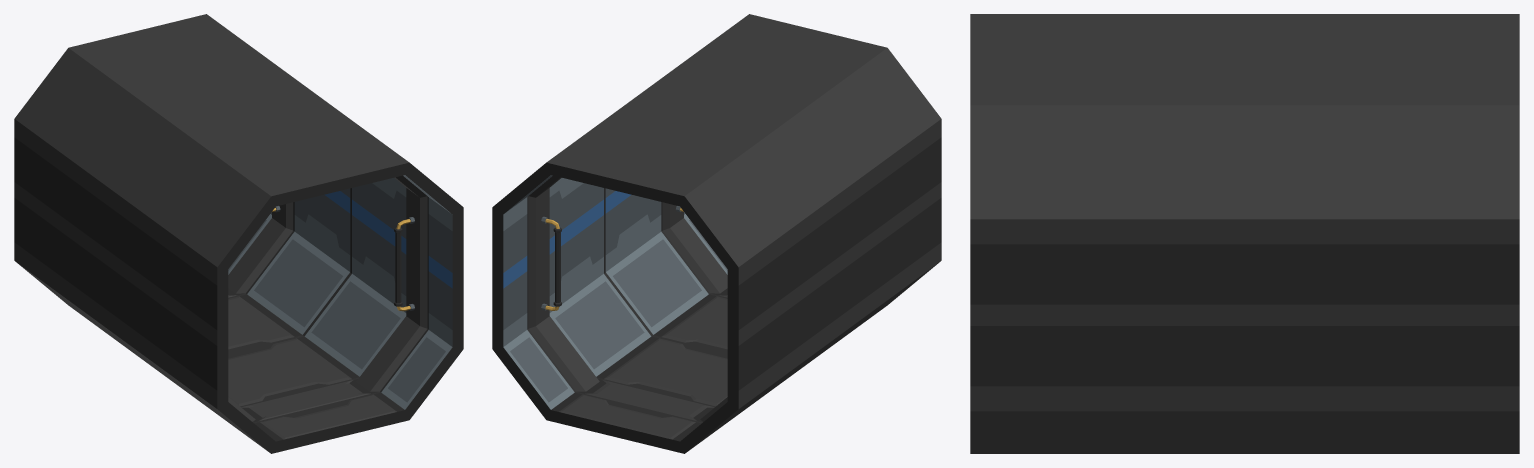
File: SM_Bld_Wall_Tube_01.fbx
3 renders of one model, left to right at view 1: azimuth 30°, elevation 25°; view 2: azimuth 150°, elevation 25°; view 3: azimuth 270°, elevation 25°, orthographic. The views are drawn at different scales.
Visible parts, largest first — view 1: SM_Bld_Wall_Tube_01; view 2: SM_Bld_Wall_Tube_01; view 3: SM_Bld_Wall_Tube_01.
Part boxes in pixels (left/top/right/bottom): SM_Bld_Wall_Tube_01: left=14, top=14, right=463, bottom=453; SM_Bld_Wall_Tube_01: left=492, top=14, right=941, bottom=453; SM_Bld_Wall_Tube_01: left=970, top=14, right=1519, bottom=453.
Size of the model in its own units: 350 by 350 by 500.
1 material, 1 textured.
